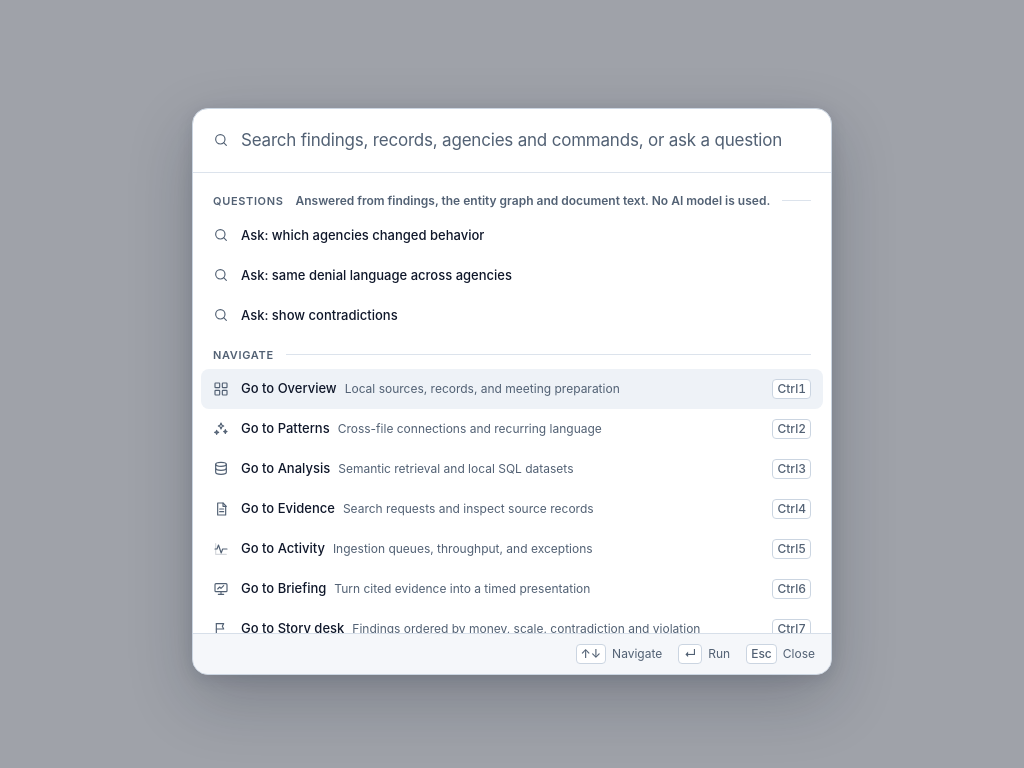
Test: CommandPalette intent router › asks on Enter, keeps the palette open, and renders basis, location and quote
Replace the text in the dropdown with "who signed for the City Attorney" at point(526, 140), box [241, 108, 811, 172]
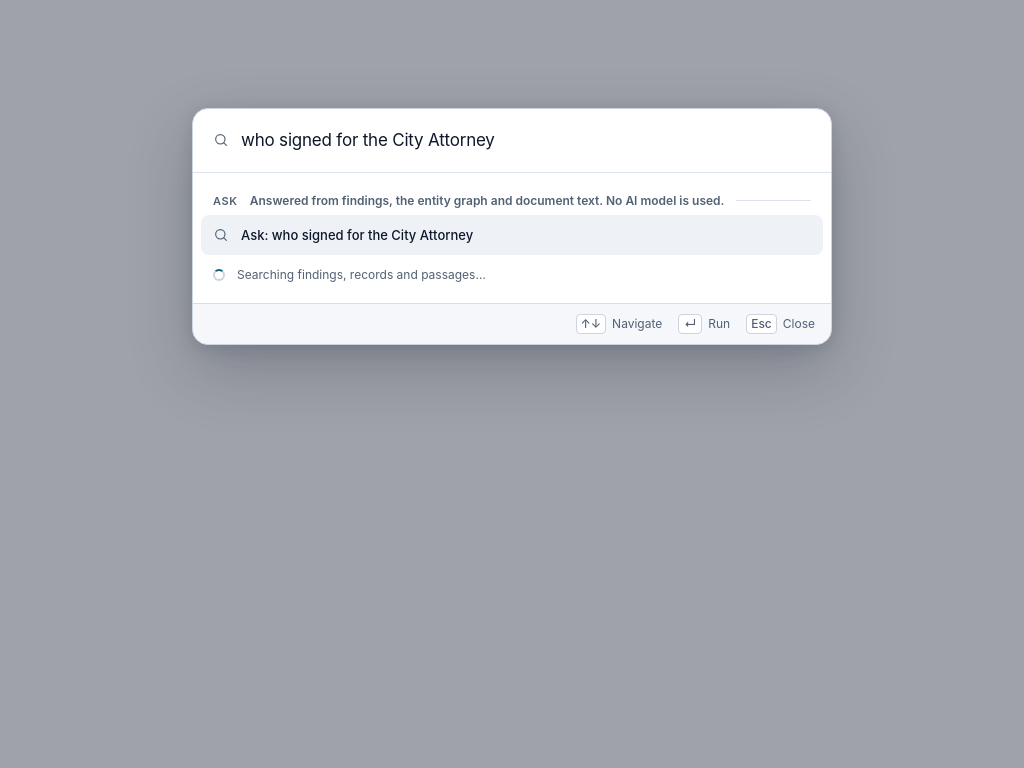
Press Enter
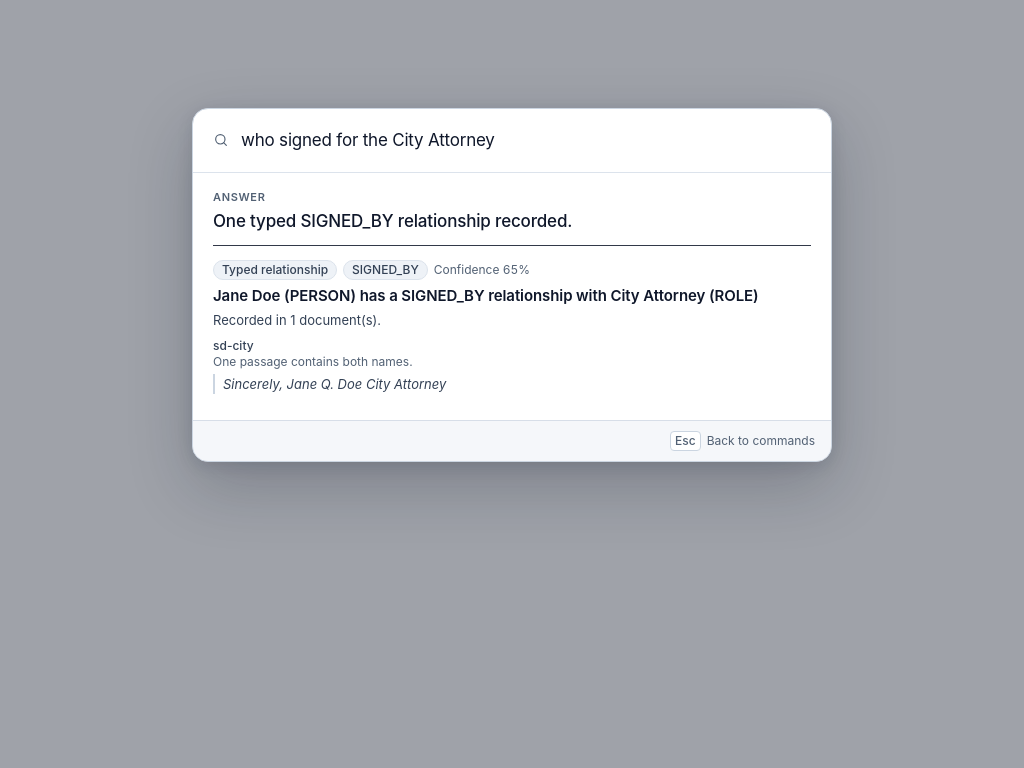
Now the text "One typed SIGNED_BY relationship recorded." is shown, box [213, 210, 572, 230]
Now the text "Typed relationship" is shown, box [213, 260, 337, 280]
Now the text titled "Document 7, characters 12–60" reads "sd-city", box [213, 338, 254, 352]
